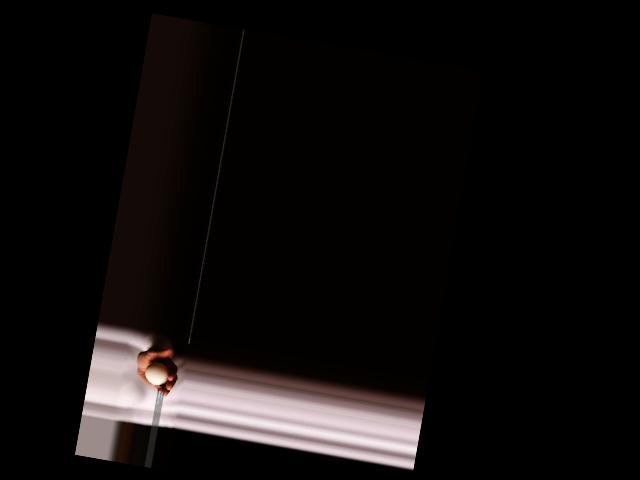egg: (143, 360, 171, 387)
